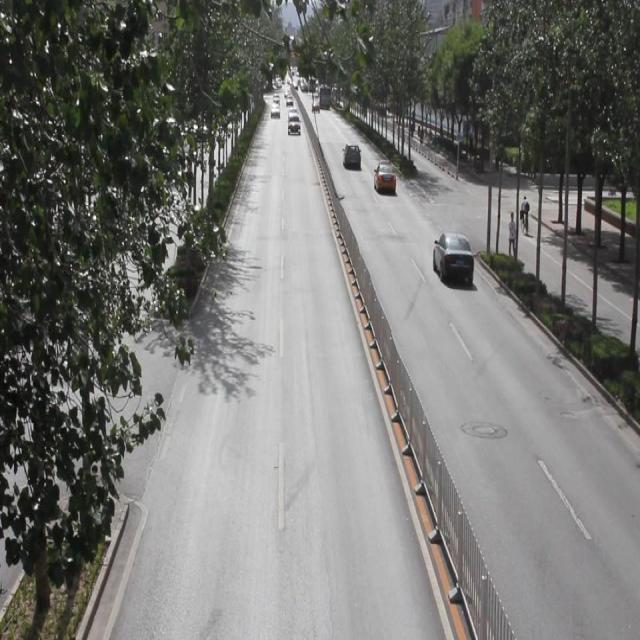car: (432, 231, 473, 286), (372, 158, 396, 196), (341, 142, 362, 171)
